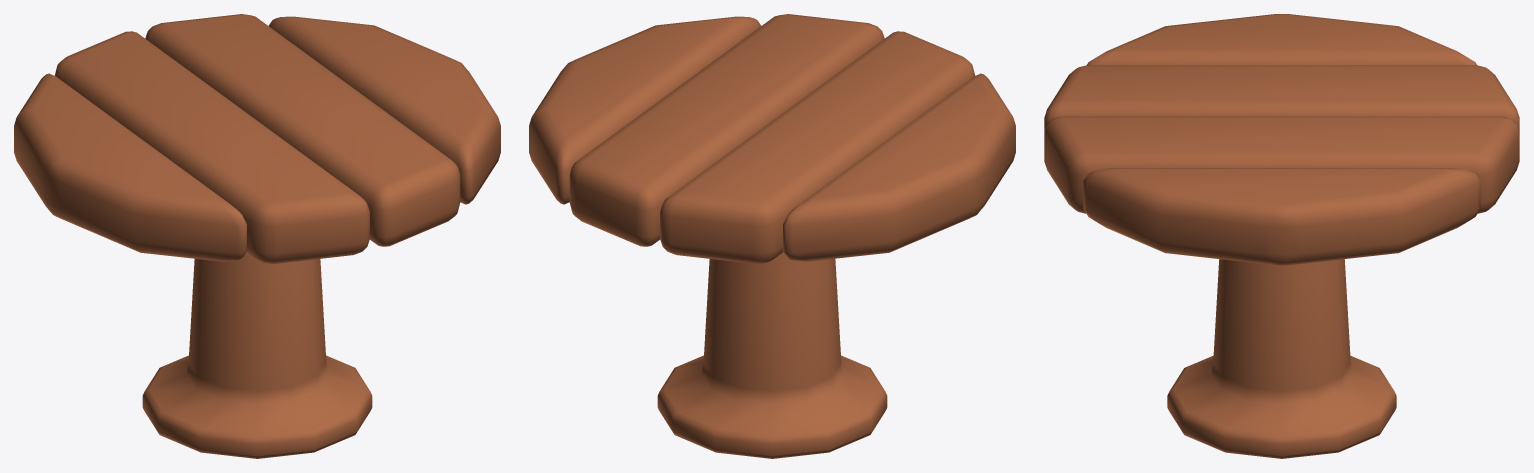
The model's file is SM_Table.fbx.
3 renders of one model, left to right at view 1: azimuth 30°, elevation 25°; view 2: azimuth 150°, elevation 25°; view 3: azimuth 270°, elevation 25°, orthographic.
Visible parts, largest first — view 1: SM_Table; view 2: SM_Table; view 3: SM_Table.
Boxes of the visible parts, x1,y1,x2,y2 form: SM_Table: (14, 14, 500, 458); SM_Table: (529, 14, 1015, 458); SM_Table: (1044, 14, 1519, 458).
Size of the model in its own units: 259 by 180 by 257.
